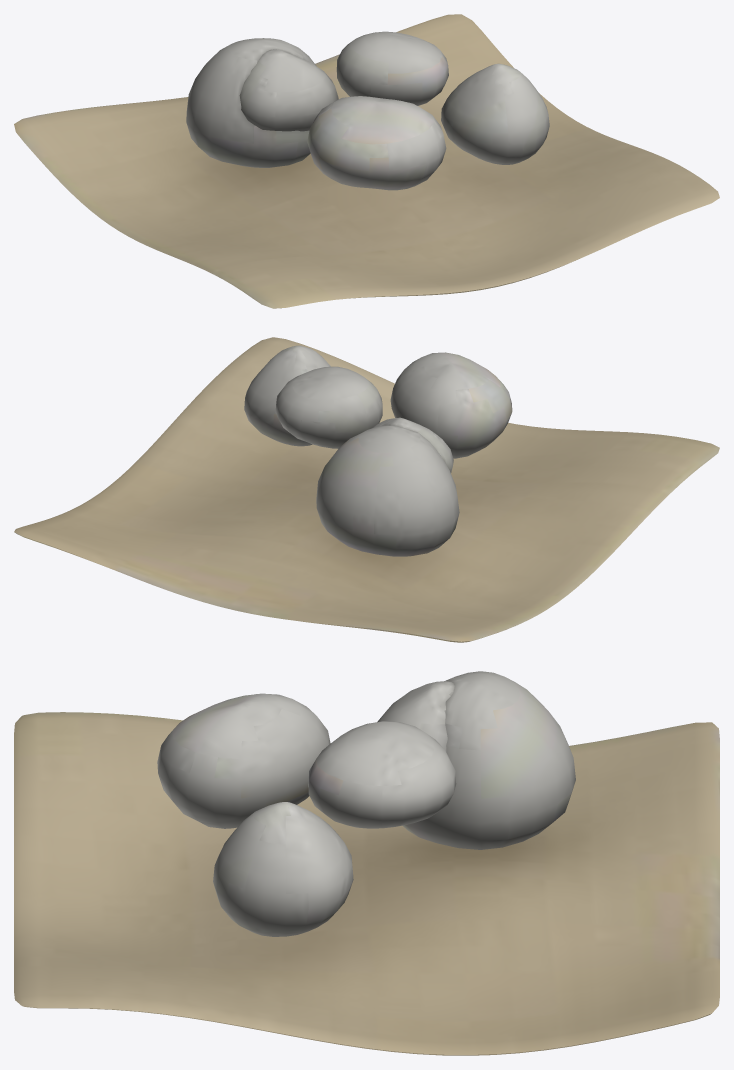
The model's file is quicklime.glb.
The picture shows the model from 3 angles, top to bottom: view 1: azimuth 30°, elevation 25°; view 2: azimuth 150°, elevation 25°; view 3: azimuth 270°, elevation 25°; orthographic projection. The views are drawn at different scales.
Parts seen in each view (by area): view 1: quicklime; view 2: quicklime; view 3: quicklime.
Boxes of the visible parts, bbox=[...] form: quicklime: bbox=[14, 14, 719, 308]; quicklime: bbox=[14, 337, 719, 642]; quicklime: bbox=[14, 671, 719, 1055].
Bounding box in the file's own units: 0.1193 × 0.0381 × 0.1193.
1 material, 1 textured.
